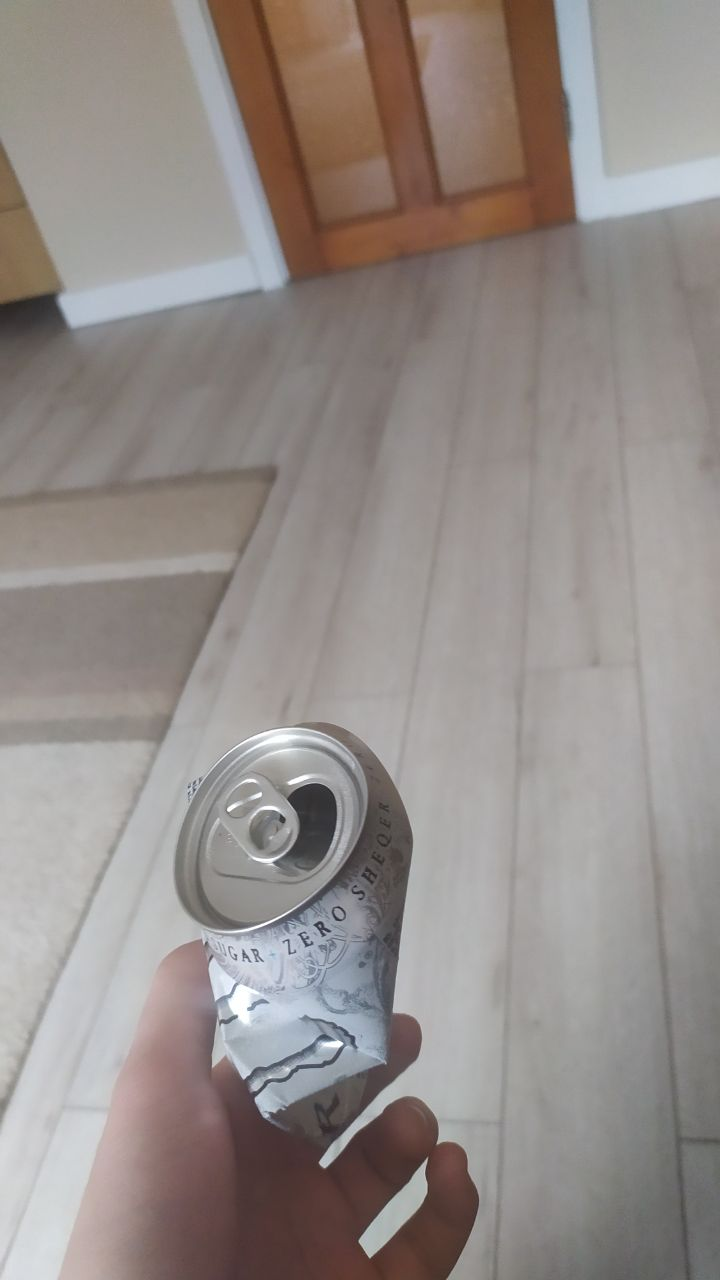Can: (169, 720, 413, 1135)
